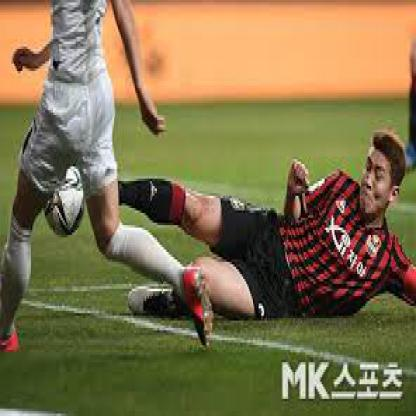Fall_Down: (87, 129, 415, 318)
